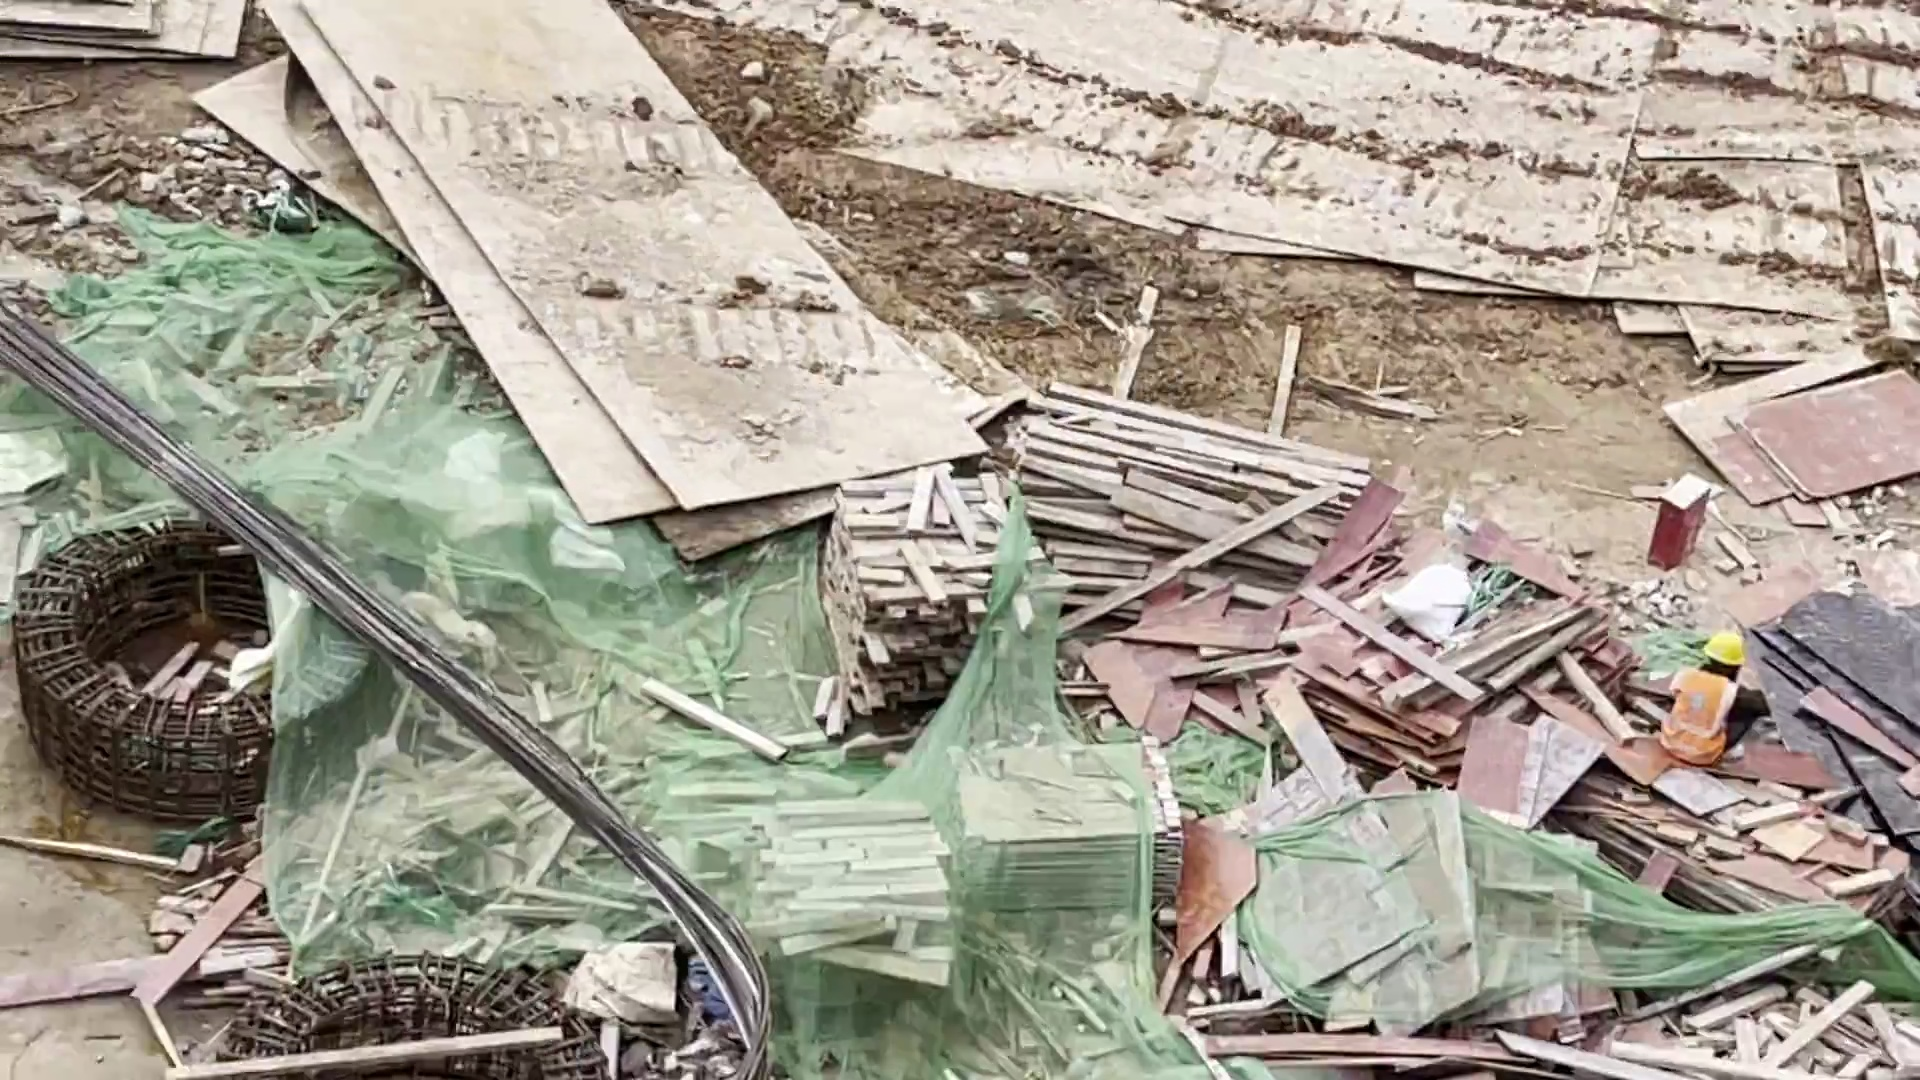helmet: (1702, 624, 1746, 668)
person: (1659, 616, 1766, 774)
vest: (1661, 667, 1734, 773)
